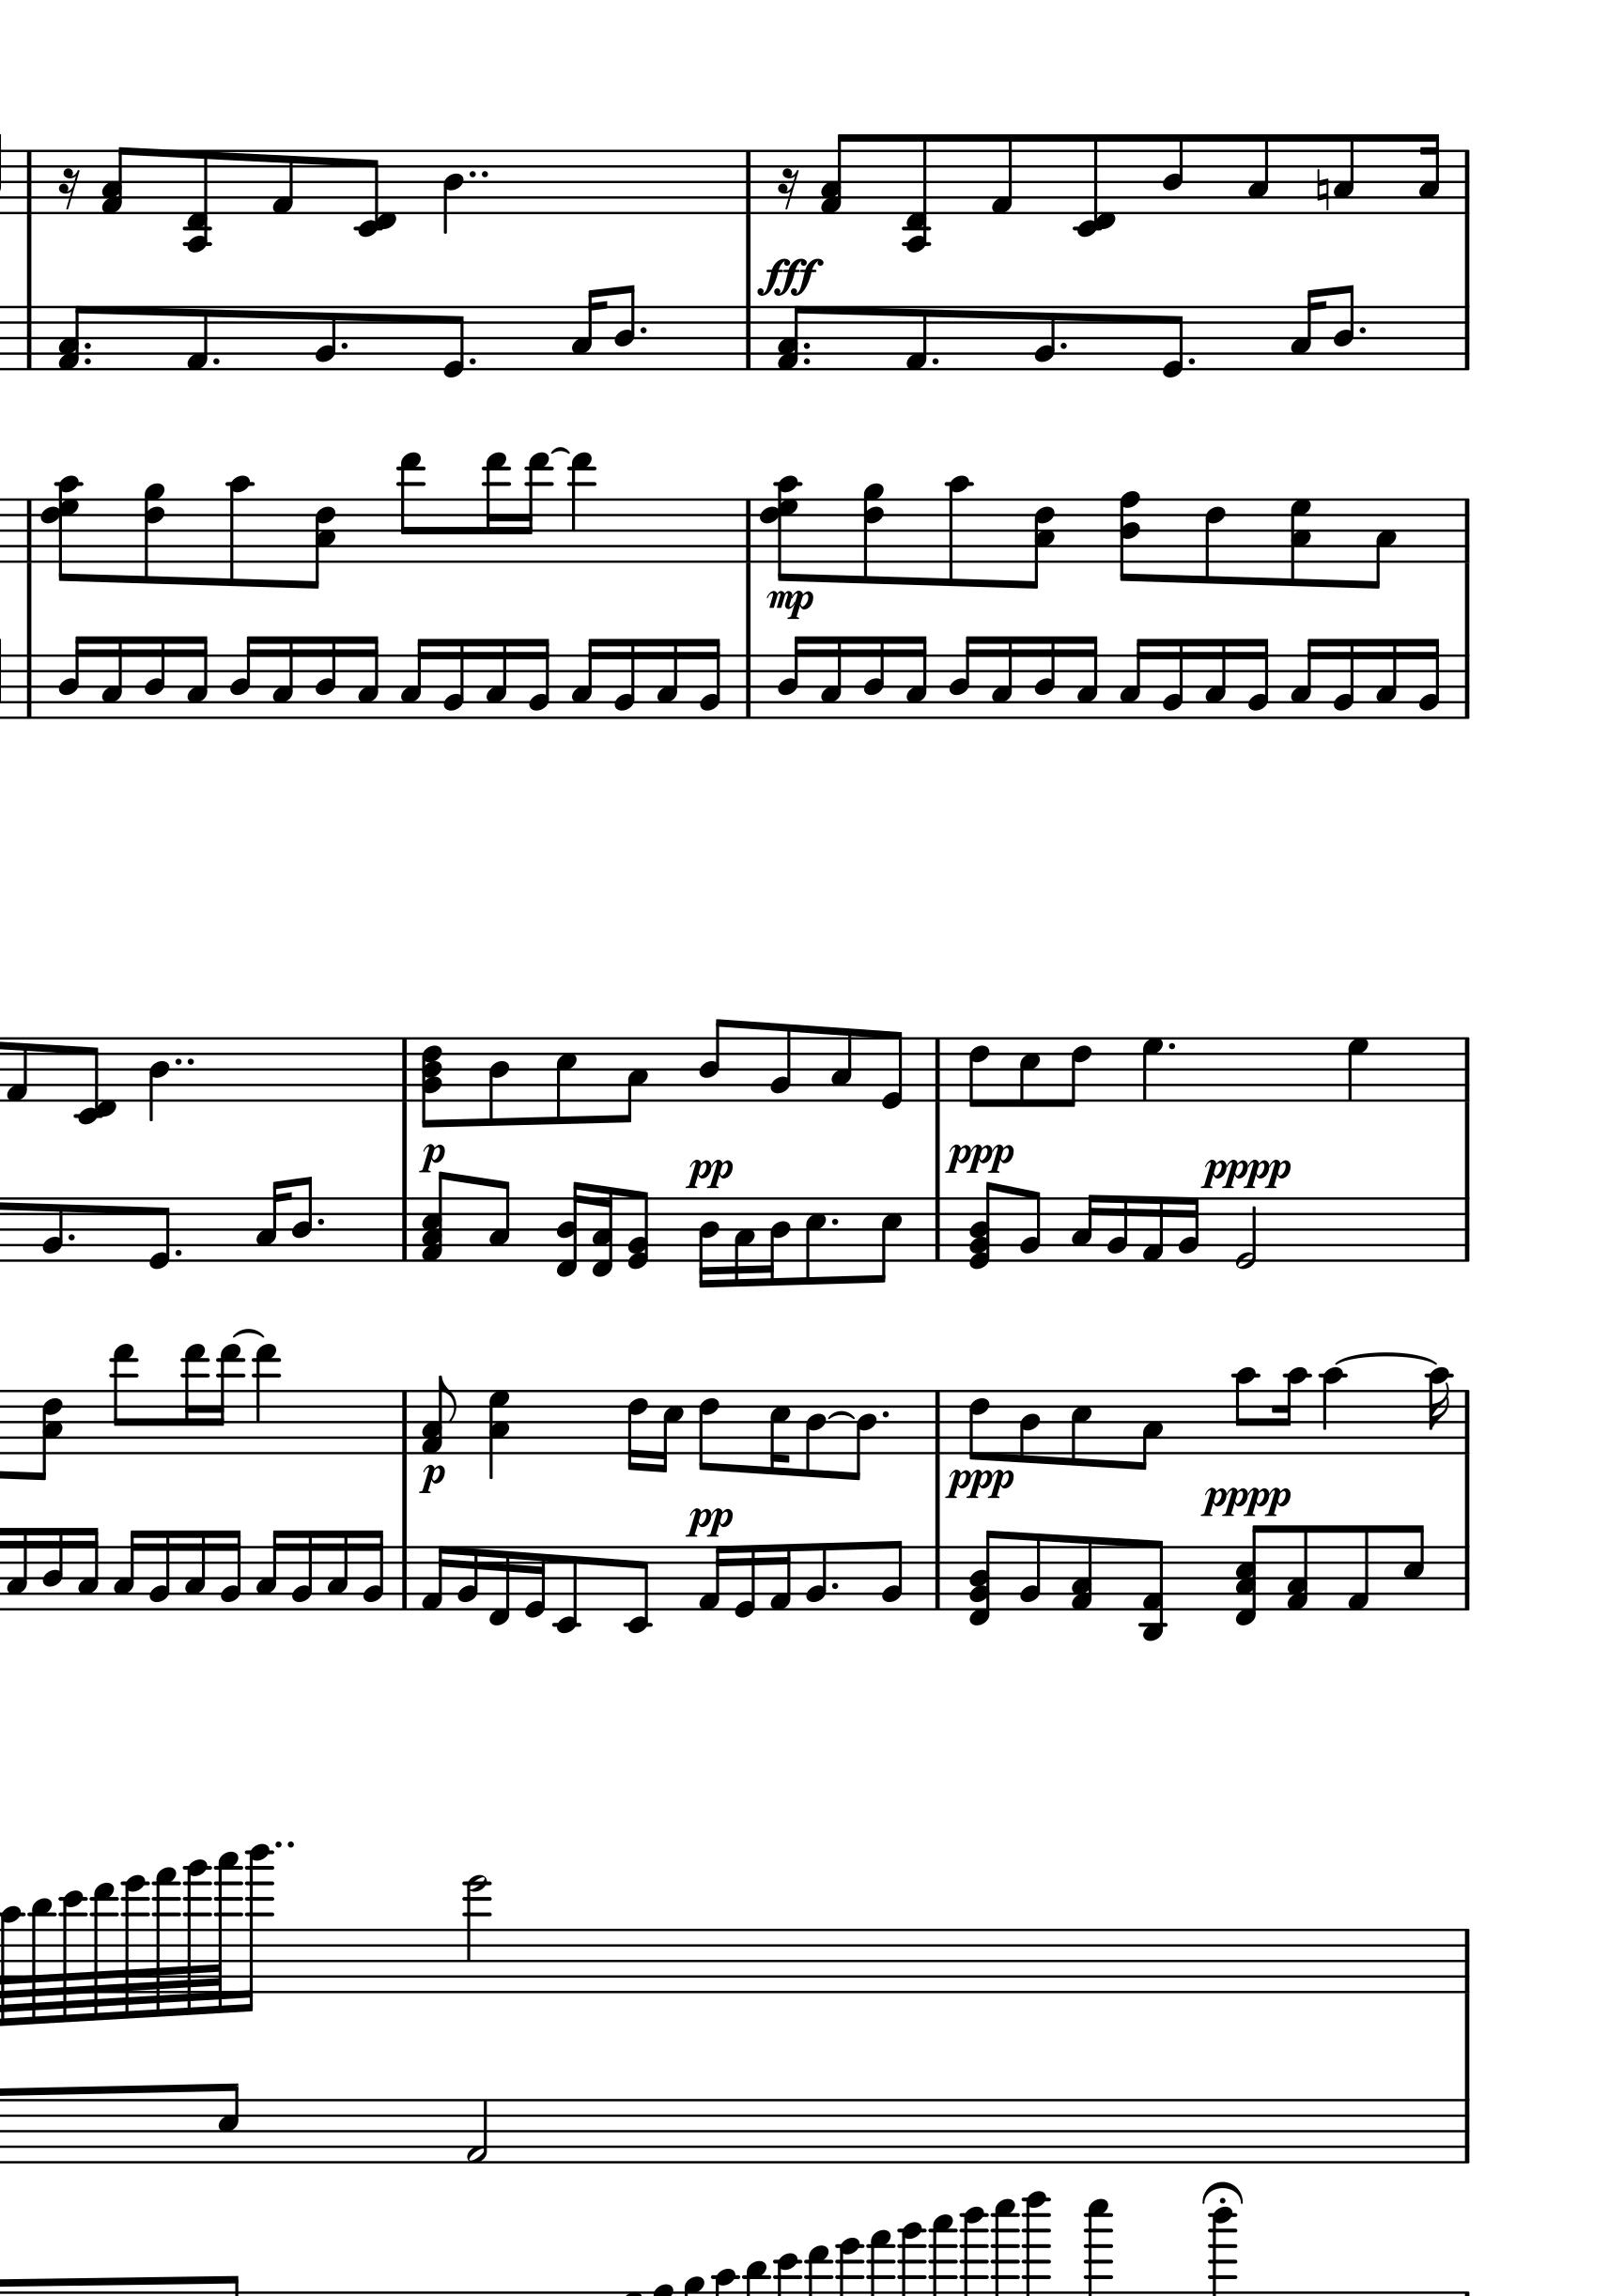16_-1: (487, 1544, 511, 1627)
16_-1_3: (592, 1186, 615, 1279)
16_-1_4: (555, 1179, 584, 1277)
16_0: (731, 1544, 756, 1620), (522, 1544, 545, 1620)
16_1: (696, 1544, 728, 1613), (420, 1544, 450, 1613), (768, 1542, 793, 1613)
16_10: (1274, 1367, 1308, 1458), (1424, 1365, 1452, 1456)
16_13: (480, 450, 510, 566), (213, 1342, 243, 1458), (520, 451, 550, 566), (179, 1342, 207, 1458)
16_18: (243, 1841, 274, 2013)
16_2: (441, 636, 466, 720), (526, 636, 550, 720), (612, 636, 636, 720), (1160, 636, 1185, 720), (1244, 638, 1269, 722), (360, 1528, 385, 1613), (1330, 638, 1355, 720), (146, 1528, 170, 1611), (288, 1528, 313, 1611), (698, 636, 721, 720), (1417, 636, 1439, 720), (218, 1528, 241, 1611), (1104, 1193, 1128, 1263), (1139, 1195, 1164, 1265), (455, 1544, 480, 1613), (1176, 1195, 1199, 1265)
16_3: (568, 286, 606, 372), (1288, 286, 1325, 372), (253, 1177, 290, 1263), (1287, 636, 1320, 718), (397, 636, 429, 720), (568, 636, 599, 720), (1116, 638, 1148, 718), (111, 1528, 141, 1611), (253, 1528, 283, 1611), (98, 634, 125, 720), (269, 634, 295, 720), (817, 634, 844, 720), (988, 634, 1014, 720), (731, 1195, 754, 1289), (1069, 1193, 1098, 1265), (1415, 132, 1439, 216), (185, 634, 209, 718), (4, 1527, 28, 1611), (483, 636, 508, 718), (654, 636, 678, 718), (1202, 636, 1227, 718), (1373, 636, 1397, 718), (181, 1528, 206, 1611), (323, 1528, 348, 1611), (355, 634, 378, 720), (903, 634, 926, 720), (1074, 634, 1097, 720), (76, 1527, 98, 1611)
16_4: (227, 632, 258, 720), (775, 634, 807, 720), (56, 632, 86, 720), (947, 632, 977, 720), (761, 1196, 789, 1288), (694, 1198, 719, 1289), (142, 632, 167, 720), (313, 632, 337, 720), (861, 634, 886, 720), (1032, 634, 1056, 720), (40, 1527, 63, 1611)
16_5: (656, 1388, 684, 1474), (766, 1388, 791, 1477)
16_6: (626, 1388, 649, 1472)
2_0: (1234, 1196, 1258, 1270)
2_14: (462, 1873, 489, 1994)
2_2: (464, 2097, 489, 2164)
4_10: (1318, 1365, 1346, 1456)
4_13: (251, 1342, 279, 1458), (568, 448, 594, 564)
4_4: (144, 1036, 169, 1124), (439, 148, 462, 235)
4_7: (1139, 1036, 1165, 1105), (1345, 1036, 1369, 1105)
64_10: (2, 1906, 26, 2027)
64_11: (26, 1897, 56, 2024)
64_12: (58, 1890, 88, 2024)
64_13: (88, 1881, 118, 2020)
64_14: (118, 1873, 149, 2020)
64_15: (149, 1867, 181, 2018)
64_16: (181, 1859, 213, 2015)
64_17: (213, 1852, 243, 2015)
8_-2: (620, 1544, 650, 1634), (552, 1544, 580, 1635)
8_-2_-1: (1072, 132, 1116, 239), (352, 148, 397, 237), (74, 1036, 118, 1124)
8_-3_1: (1139, 1539, 1169, 1643)
8_-4_-1: (902, 134, 933, 253), (181, 148, 214, 253)
8_0: (879, 1029, 903, 1112), (1158, 304, 1185, 379), (146, 1195, 172, 1270), (441, 304, 466, 379)
8_0_2: (626, 1189, 650, 1268)
8_1: (1343, 1523, 1369, 1614), (988, 132, 1014, 216), (183, 304, 209, 372), (269, 148, 294, 216), (902, 304, 926, 372), (5, 1036, 26, 1103)
8_10: (942, 474, 974, 588), (223, 474, 253, 588), (1230, 1367, 1258, 1456)
8_13: (107, 1340, 137, 1456), (395, 450, 425, 564)
8_1_3: (422, 1377, 459, 1455), (821, 132, 849, 214), (777, 304, 810, 372), (58, 306, 91, 371), (100, 146, 130, 214), (1070, 1534, 1095, 1613), (1288, 1523, 1308, 1613)
8_2: (768, 1022, 793, 1105), (1018, 1530, 1042, 1613), (879, 1537, 903, 1613), (1018, 1188, 1040, 1265), (313, 304, 337, 372), (1032, 306, 1056, 372), (40, 1196, 63, 1265), (803, 1542, 826, 1611)
8_3: (1364, 495, 1397, 590), (617, 1035, 649, 1124), (1130, 1388, 1164, 1472), (1244, 132, 1271, 216), (485, 1179, 510, 1265), (1330, 132, 1355, 214), (828, 1026, 852, 1103)
8_3_6: (33, 1390, 63, 1483), (309, 497, 336, 592), (1028, 497, 1055, 590)
8_3_7: (1288, 497, 1313, 588)
8_4: (844, 1388, 877, 1483), (698, 1017, 728, 1103), (801, 1390, 826, 1479), (487, 1036, 510, 1130), (1160, 132, 1185, 214), (613, 283, 634, 372), (1332, 283, 1353, 372), (292, 1175, 311, 1265), (1016, 1388, 1039, 1463)
8_4_8: (1118, 490, 1141, 583)
8_5: (870, 1195, 902, 1284), (801, 1195, 826, 1288), (552, 1036, 576, 1126), (214, 2082, 239, 2164), (1401, 1523, 1424, 1611), (1067, 1388, 1091, 1469), (1018, 1036, 1040, 1108)
8_6: (1060, 1036, 1091, 1108), (1202, 495, 1225, 588), (696, 1388, 719, 1474), (965, 1388, 990, 1462), (965, 1036, 990, 1108)
8_6_9: (863, 483, 886, 587), (142, 483, 165, 587)
8_th: (39, 473, 84, 581), (763, 471, 807, 583), (965, 1175, 998, 1272), (1234, 1523, 1264, 1627), (418, 1173, 450, 1263), (968, 1530, 997, 1623), (417, 1038, 445, 1130)
Double_dot: (466, 167, 490, 181), (172, 1056, 195, 1068), (274, 1839, 295, 1852)
Fermata_above: (1199, 2178, 1244, 2208)
Natural: (1313, 167, 1329, 214)
Rests16: (775, 165, 798, 213), (56, 167, 79, 213)
Single_barline: (1454, 1038, 1476, 1103), (1454, 151, 1476, 214), (1454, 307, 1476, 371), (736, 501, 759, 564), (394, 1391, 417, 1455), (1454, 2099, 1476, 2162), (1455, 499, 1476, 564), (926, 1038, 947, 1103), (394, 1546, 415, 1611), (1454, 1546, 1475, 1611), (18, 151, 39, 214), (738, 151, 759, 214), (18, 501, 39, 564), (18, 655, 39, 718), (394, 1038, 415, 1101), (394, 1198, 415, 1261), (926, 1198, 947, 1261), (1454, 1198, 1475, 1261), (1455, 1929, 1476, 1992), (18, 306, 37, 369), (738, 655, 758, 718), (1455, 655, 1475, 718), (1455, 1391, 1475, 1455), (738, 307, 758, 369)
Slur: (1332, 1351, 1445, 1367), (924, 1548, 949, 1611), (926, 1391, 949, 1456), (230, 1328, 265, 1340), (824, 1411, 854, 1421)
dot: (336, 337, 352, 355), (1056, 337, 1070, 357), (209, 351, 223, 371), (466, 353, 480, 371), (928, 353, 942, 371), (1183, 353, 1197, 371), (63, 1230, 77, 1245), (170, 1245, 185, 1261), (313, 1216, 327, 1230), (826, 1216, 840, 1230), (636, 323, 649, 337), (1357, 323, 1369, 337), (81, 339, 93, 353), (81, 355, 93, 369), (800, 355, 812, 369), (1165, 1040, 1178, 1052), (800, 341, 812, 351), (879, 1409, 889, 1421), (828, 1581, 838, 1593)
fff: (754, 253, 824, 299)
mp: (761, 585, 816, 622)
p: (415, 1140, 446, 1173), (417, 1463, 446, 1495)
pp: (682, 1505, 735, 1539), (682, 1156, 733, 1189)
ppp: (944, 1138, 1018, 1177), (940, 1465, 1014, 1504)
pppp: (1195, 1483, 1294, 1523), (1199, 1152, 1294, 1191)
